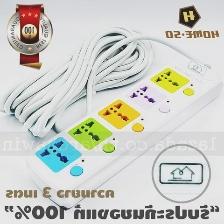three_eye_plug: (20, 56, 224, 213)
